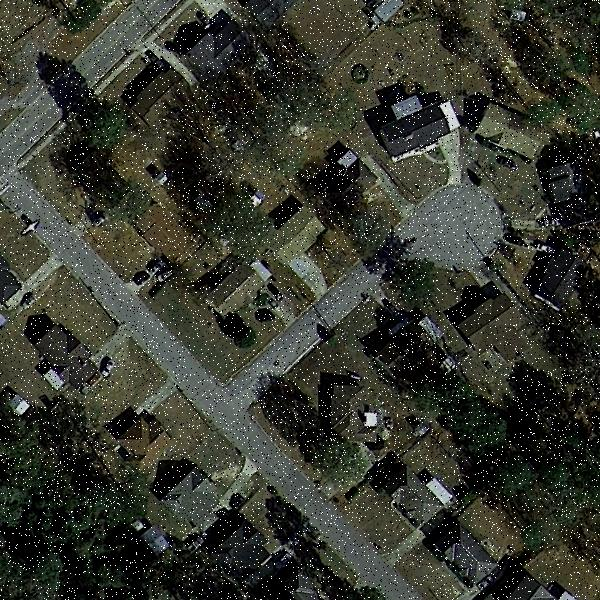Buildings: (480, 100, 537, 168), (470, 292, 526, 358), (375, 326, 441, 381), (388, 99, 454, 149), (39, 326, 90, 389), (191, 18, 243, 76), (125, 409, 168, 476), (534, 252, 584, 308), (128, 64, 180, 111), (210, 268, 264, 309), (170, 479, 216, 526), (272, 212, 316, 260), (390, 480, 434, 526), (335, 386, 371, 442), (151, 213, 183, 259), (446, 539, 486, 575)
